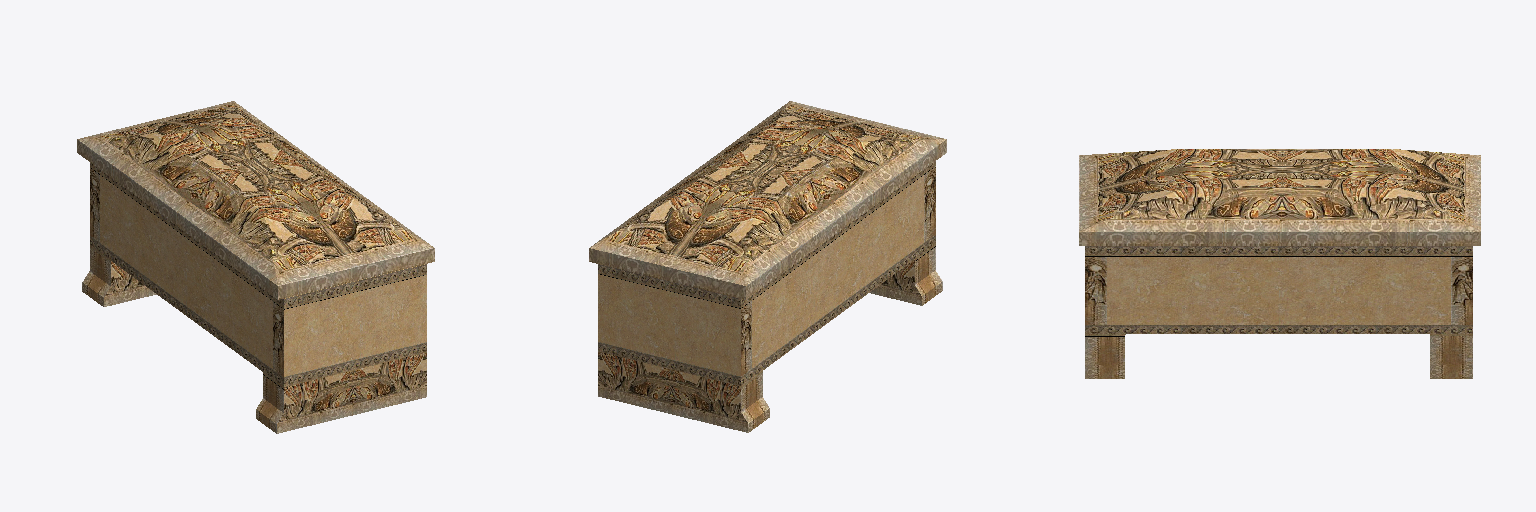
The picture shows the model from 3 angles: view 1: azimuth 30°, elevation 25°; view 2: azimuth 150°, elevation 25°; view 3: azimuth 270°, elevation 25°; orthographic projection.
Parts seen in each view (by area): view 1: stand 0; view 2: stand 0; view 3: stand 0.
Boxes of the visible parts, box(x1,y1,x2,y2) form: stand 0: box(77, 101, 434, 433); stand 0: box(589, 101, 946, 432); stand 0: box(1079, 149, 1480, 378).
Size of the model in its own units: 55.92 by 59.8 by 124.
Materials: 1 (1 with a texture image).